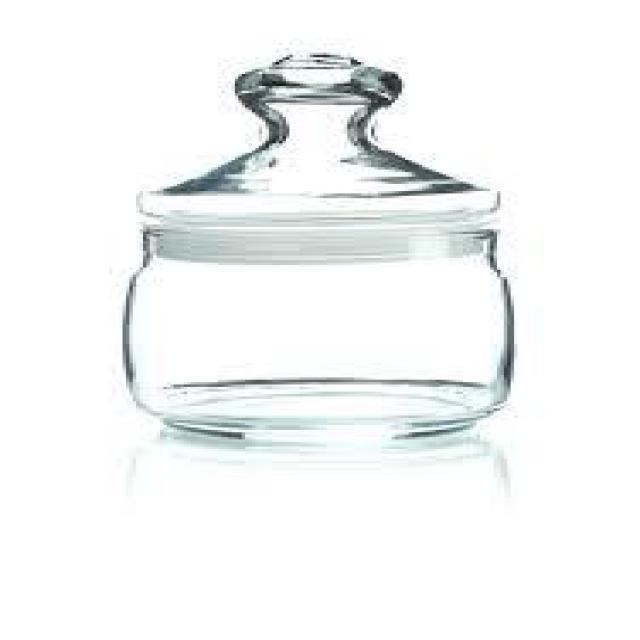Glass: (115, 45, 518, 449)
